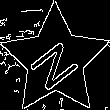N_NE: (24, 29, 86, 92)
